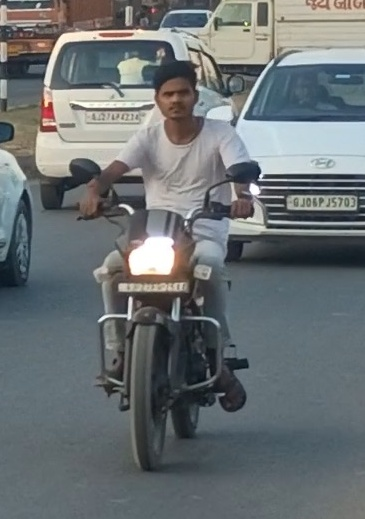BikeWithRider: (63, 55, 271, 477)
NoHelmet: (146, 56, 206, 125)
